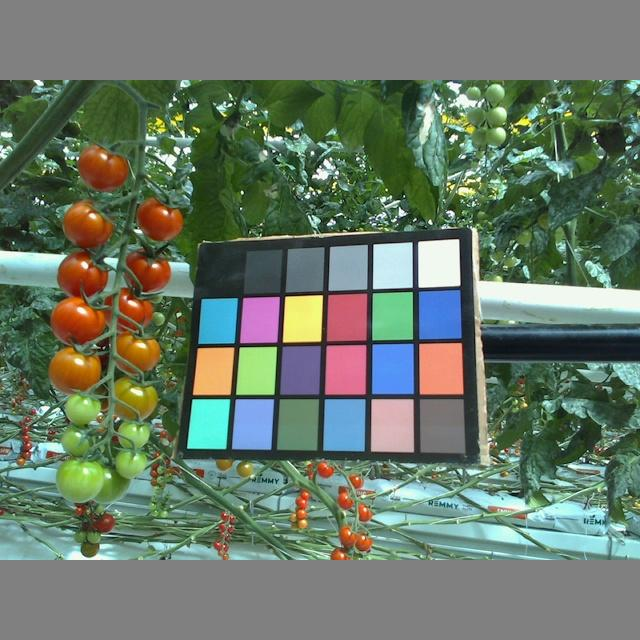green: (109, 373, 158, 421), (56, 458, 102, 503), (93, 466, 130, 503), (114, 420, 155, 448), (59, 426, 93, 457), (63, 394, 99, 423), (116, 450, 146, 481)
pink: (78, 146, 126, 192), (63, 201, 111, 245), (52, 348, 100, 391), (108, 333, 162, 370)
red: (52, 296, 105, 343), (54, 251, 108, 295), (138, 193, 186, 241), (125, 250, 176, 289), (108, 290, 155, 330)
